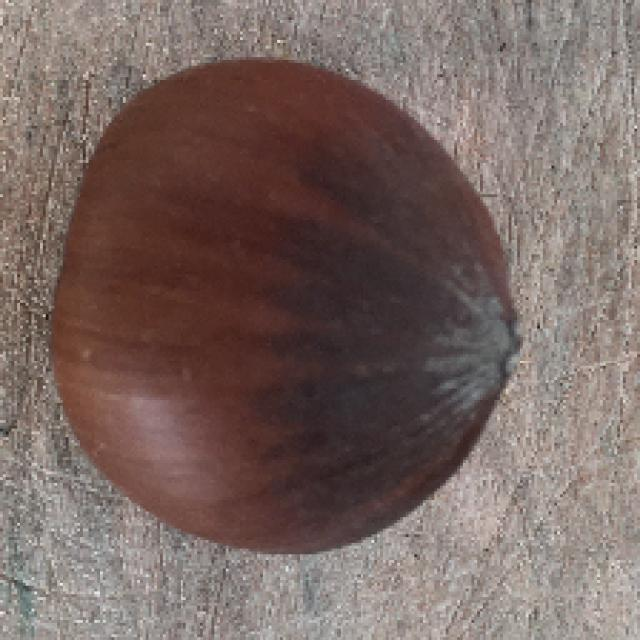damagedHazelnut: (49, 56, 530, 553)
